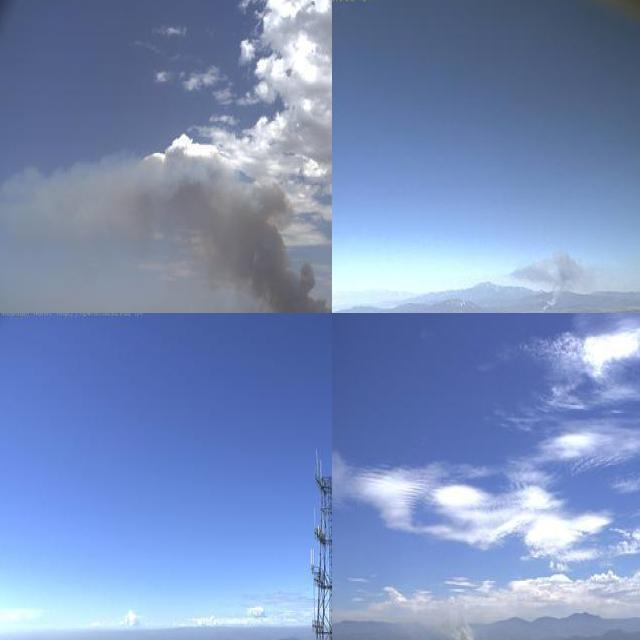smoke: (2, 142, 332, 313), (506, 245, 599, 313), (436, 609, 482, 640)
